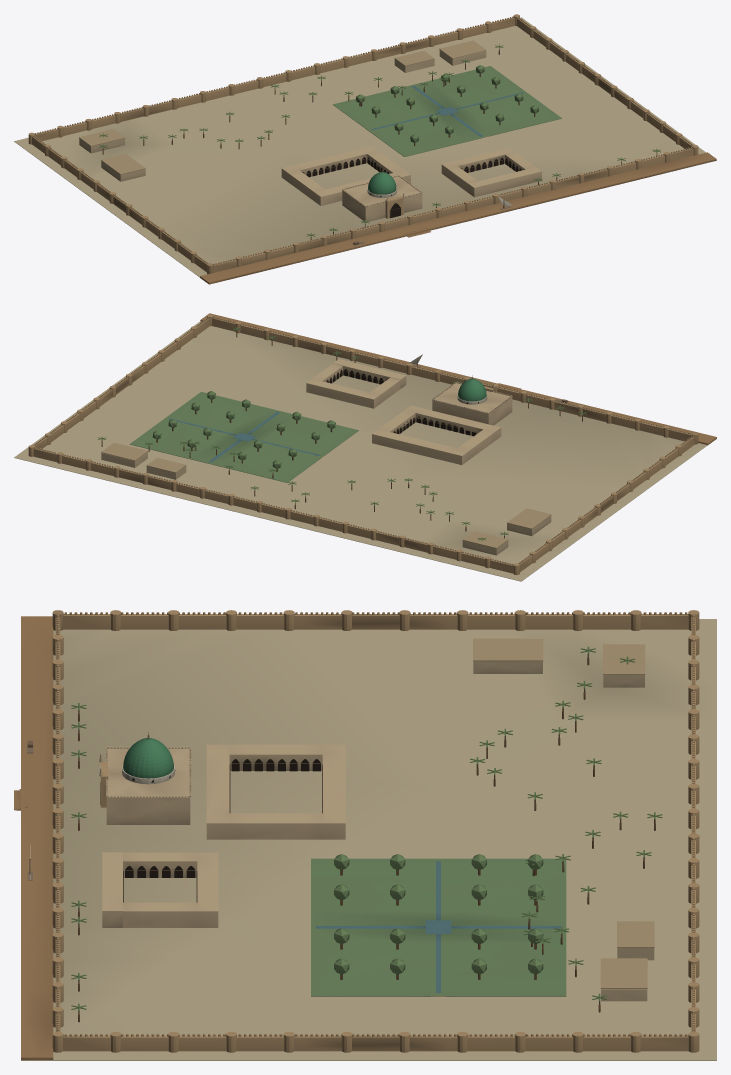
File: dar-al-khilafa-830.glb
3 views of the same model, one above another, from view 1: azimuth 30°, elevation 25°; view 2: azimuth 150°, elevation 25°; view 3: azimuth 270°, elevation 25° (orthographic). The views are drawn at different scales.
Visible parts, largest first — view 1: p0_ground, p1_walls, p3_dome and gardens, p2_palace; view 2: p0_ground, p1_walls, p3_dome and gardens, p2_palace; view 3: p0_ground, p3_dome and gardens, p1_walls, p2_palace.
Part boxes in pixels (left/top/right/bottom): p0_ground: left=14, top=17, right=716, bottom=284; p1_walls: left=28, top=14, right=698, bottom=274; p3_dome and gardens: left=99, top=44, right=660, bottom=245; p2_palace: left=79, top=40, right=541, bottom=237; p0_ground: left=14, top=313, right=716, bottom=581; p1_walls: left=28, top=314, right=698, bottom=575; p3_dome and gardens: left=98, top=327, right=586, bottom=540; p2_palace: left=101, top=359, right=551, bottom=555; p0_ground: left=21, top=616, right=716, bottom=1060; p3_dome and gardens: left=27, top=646, right=662, bottom=1014; p1_walls: left=52, top=610, right=699, bottom=1052; p2_palace: left=14, top=638, right=654, bottom=1001.
Bounding box in the file's own units: 450 × 33.01 × 303.
